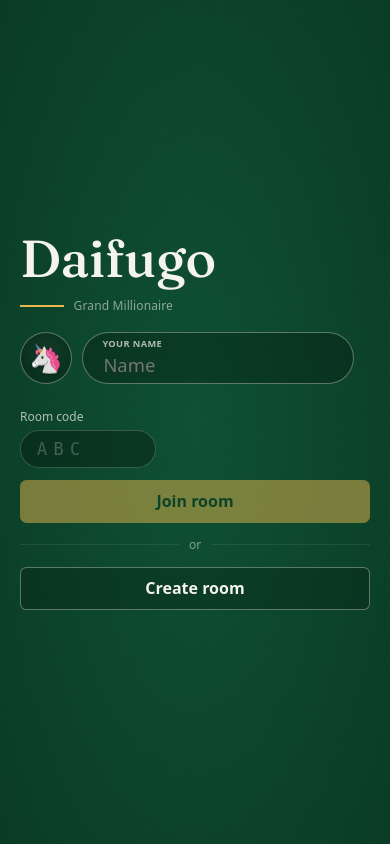
Lobby › shows the join code and the roster with host and connection state
In the field labelled "Your name": (218, 358) [82, 332, 354, 384], type "Will"
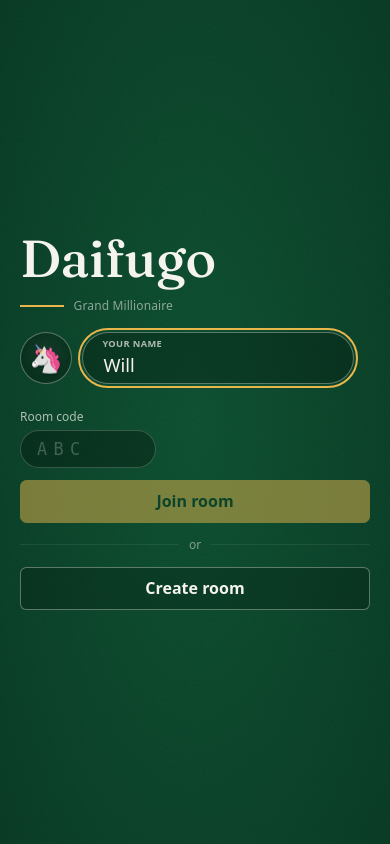
In the field labelled "Room code": (88, 449) [20, 430, 156, 468], type "ABC234"
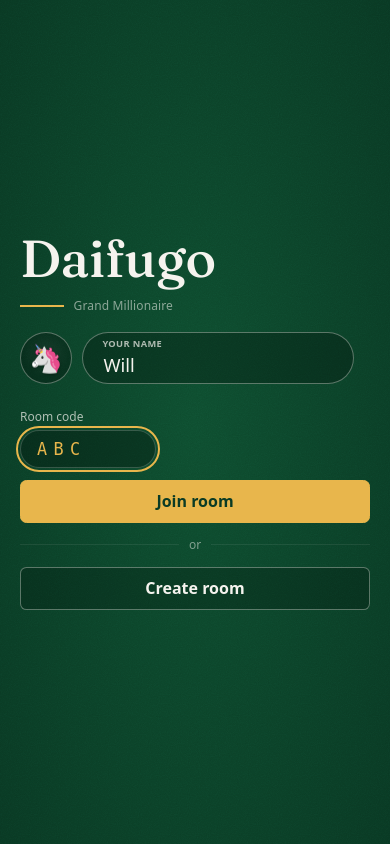
Click the button "Join room": (195, 501) [20, 480, 370, 523]
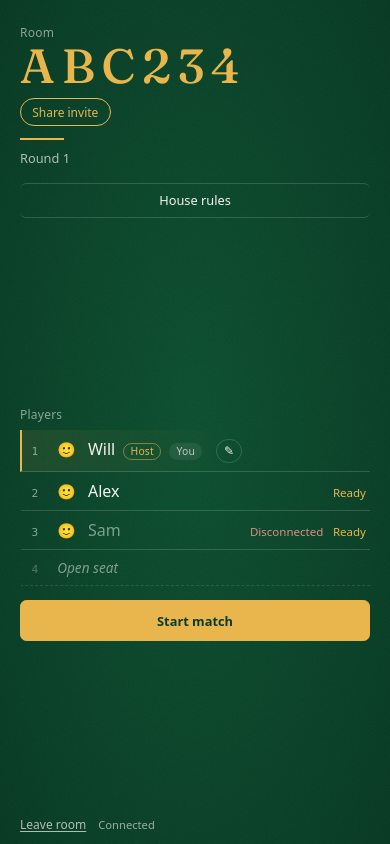
Check: the heading "Room ABC234" is shown, box [20, 24, 247, 95]
Check: the text "Will" is shown, box [88, 438, 115, 460]
Check: the text "Host" is shown, box [123, 443, 161, 460]
